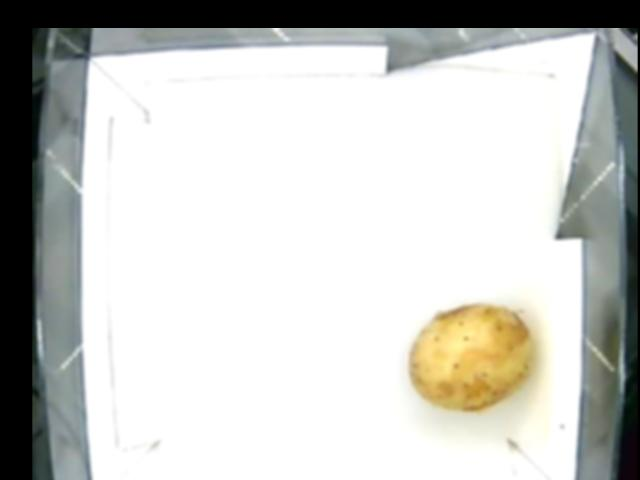Potato: (409, 301, 531, 408)
